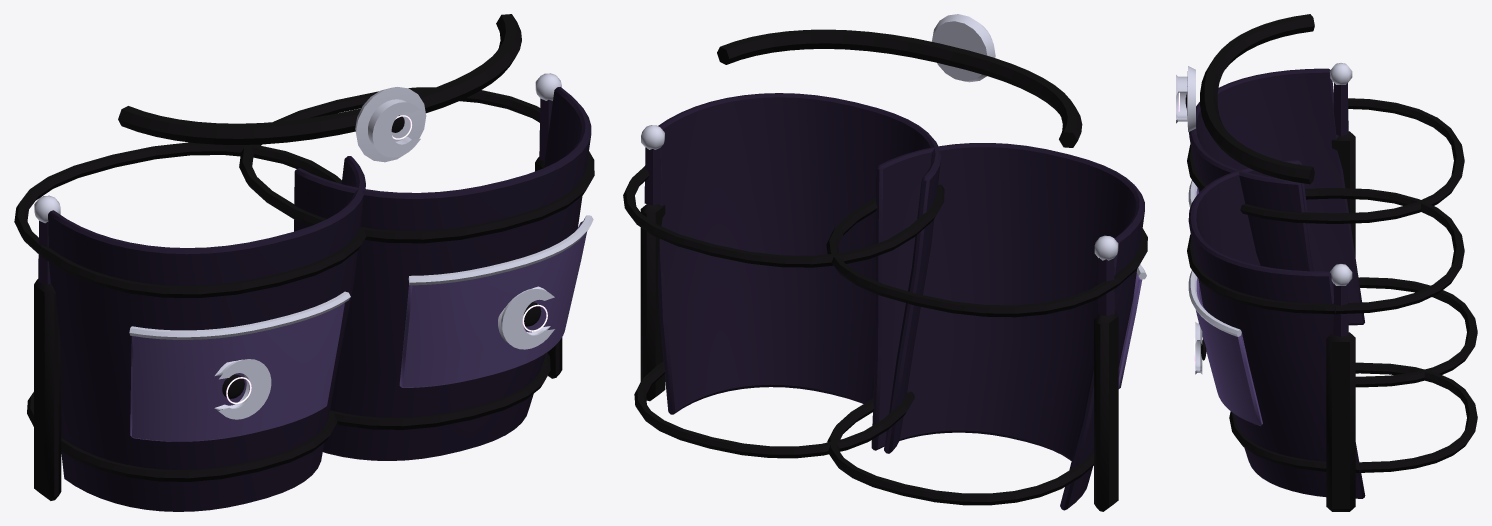
The model's file is boss_eclipse_dancer_leggings.glb.
The picture shows the model from 3 angles, left to right: view 1: azimuth 30°, elevation 25°; view 2: azimuth 150°, elevation 25°; view 3: azimuth 270°, elevation 25°; orthographic projection. The views are drawn at different scales.
Parts seen in each view (by area): view 1: AT_thigh_R, AT_thigh_L, boss_eclipse_dancer_leggings; view 2: AT_thigh_L, AT_thigh_R, boss_eclipse_dancer_leggings; view 3: AT_thigh_L, AT_thigh_R, boss_eclipse_dancer_leggings.
Part boxes in pixels (<box>): AT_thigh_R: <box>14,142,366,511</box>; AT_thigh_L: <box>239,73,594,460</box>; boss_eclipse_dancer_leggings: <box>118,14,521,162</box>; AT_thigh_L: <box>623,93,944,458</box>; AT_thigh_R: <box>826,143,1147,511</box>; boss_eclipse_dancer_leggings: <box>717,14,1082,147</box>; AT_thigh_L: <box>1187,160,1477,511</box>; AT_thigh_R: <box>1187,63,1477,387</box>; boss_eclipse_dancer_leggings: <box>1176,14,1314,184</box>.
Bounding box in the file's own units: 0.5071 × 0.3851 × 0.3072.
